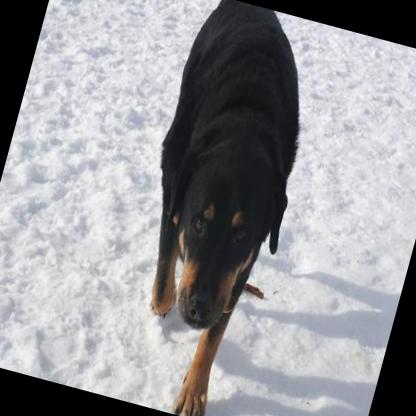Rottweiler: (94, 0, 334, 416)
